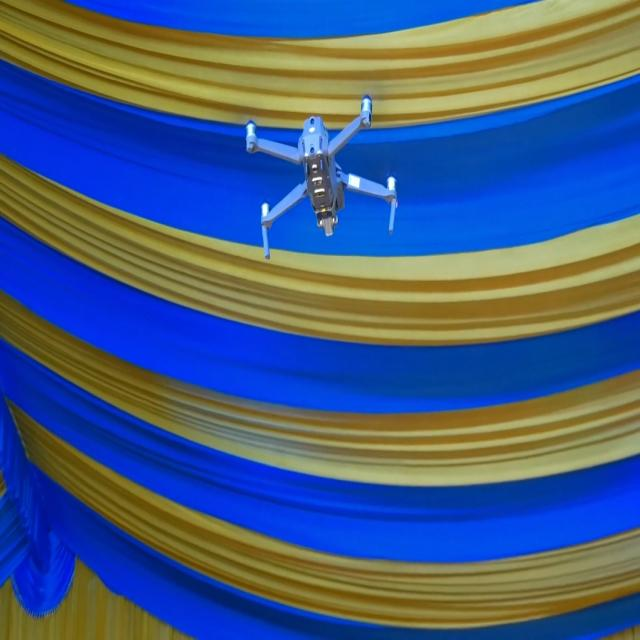Drone: (242, 91, 402, 266)
